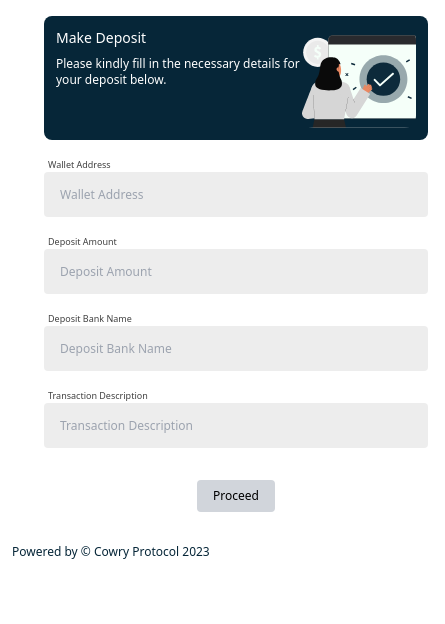
Withdrawal Component › ❌ Submit Form Data'
Type "1000" into the field with placeholder "Deposit Amount" at (236, 272), box [44,249,428,294]
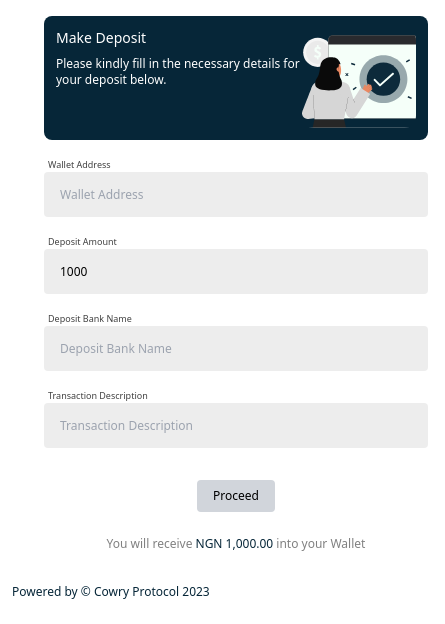
Type "GTB" into the field with placeholder "Deposit Bank Name" at (236, 348), box [44,326,428,371]
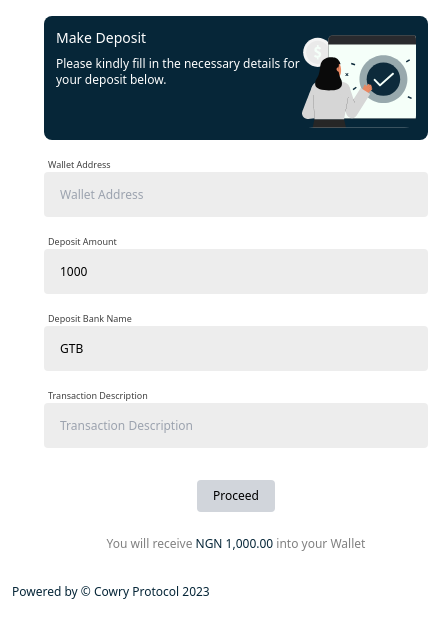
Type "GRXISJSJ2DJ4H2N44NK2N2" into the field with placeholder "Wallet Address" at (236, 194), box [44,172,428,217]
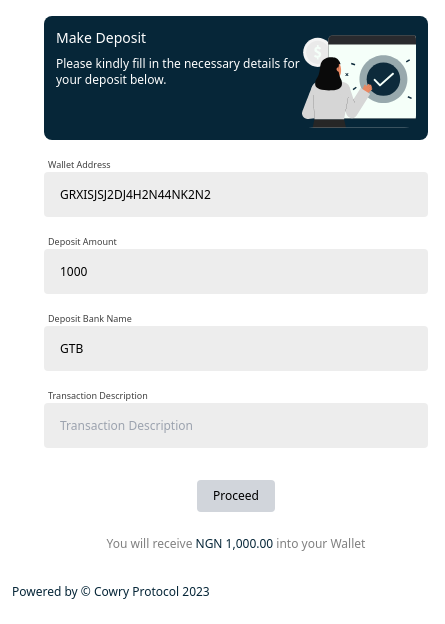
Type "TEST DESCRIPTION" into the field with placeholder "Transaction Description" at (236, 426), box [44,403,428,448]
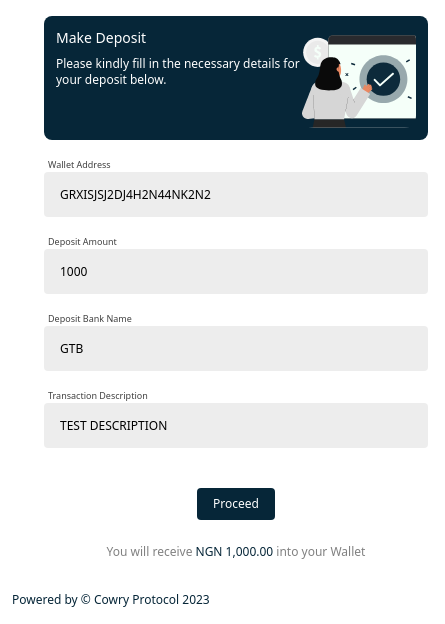
Click the button with test id "submit_btn" at (236, 504), box [197,488,275,520]
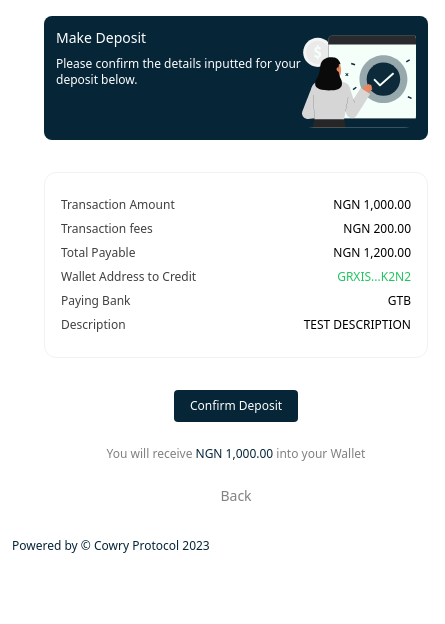
Expected: the button "Confirm Deposit" is shown, [174,390,298,422]
